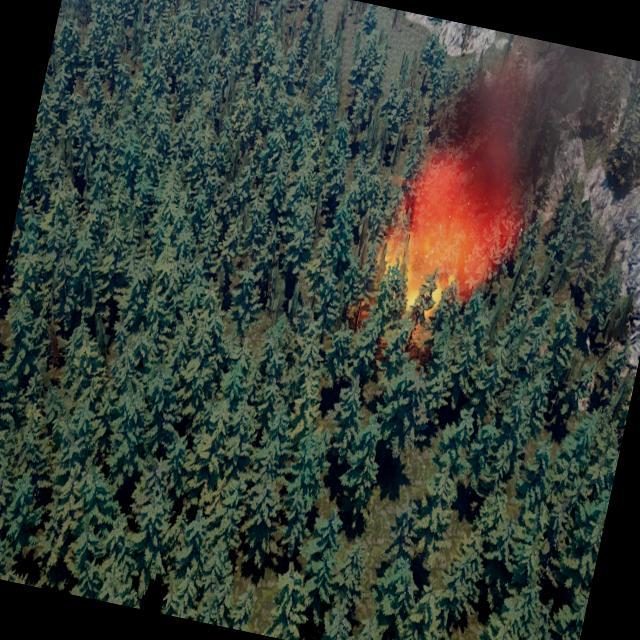fire: (354, 187, 504, 340)
smoke: (376, 18, 632, 324)
